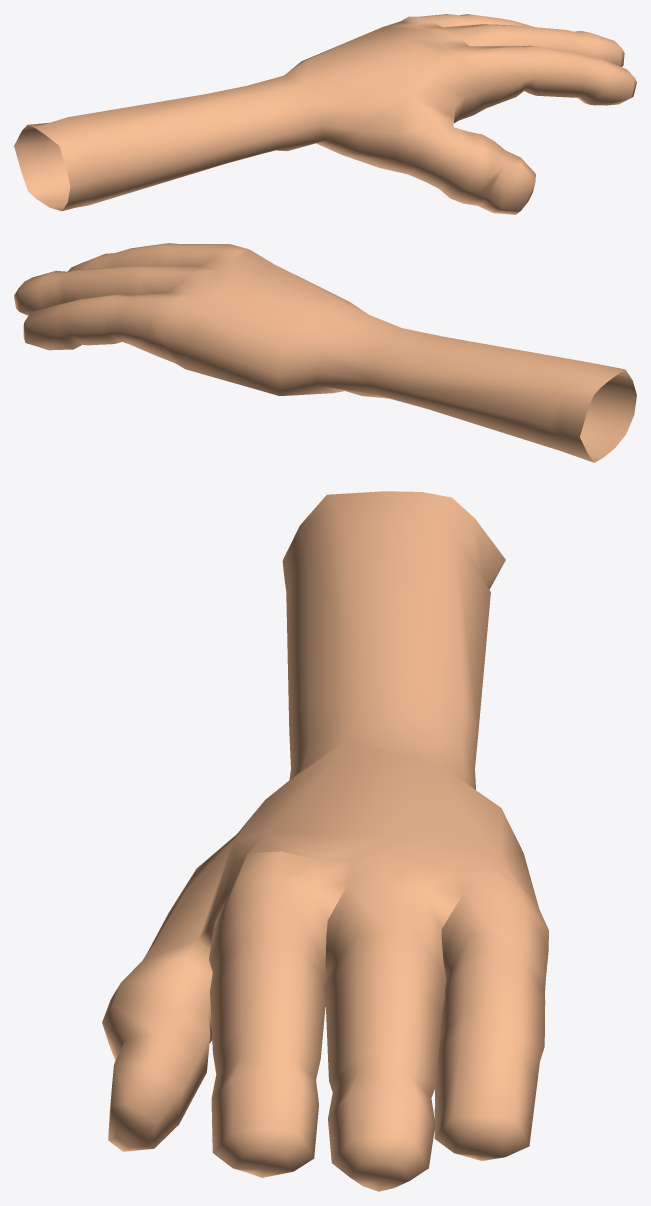
The model's file is pi_Porl_Hand_Left.obj.
3 views of the same model, one above another, from view 1: azimuth 30°, elevation 25°; view 2: azimuth 150°, elevation 25°; view 3: azimuth 270°, elevation 25° (orthographic). The views are drawn at different scales.
Parts seen in each view (by area): view 1: Character_Mesh_Plane.001; view 2: Character_Mesh_Plane.001; view 3: Character_Mesh_Plane.001.
Part boxes in pixels (x1=…): Character_Mesh_Plane.001: x1=14, y1=14, x2=636, y2=214; Character_Mesh_Plane.001: x1=14, y1=243, x2=636, y2=462; Character_Mesh_Plane.001: x1=102, y1=491, x2=548, y2=1191.
Size of the model in its own units: 1.65 by 0.3877 by 0.5545.
